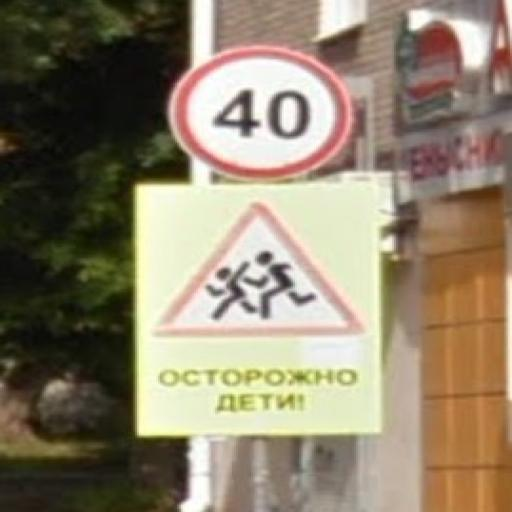traffic_sign: (154, 202, 367, 345), (168, 44, 357, 182)
